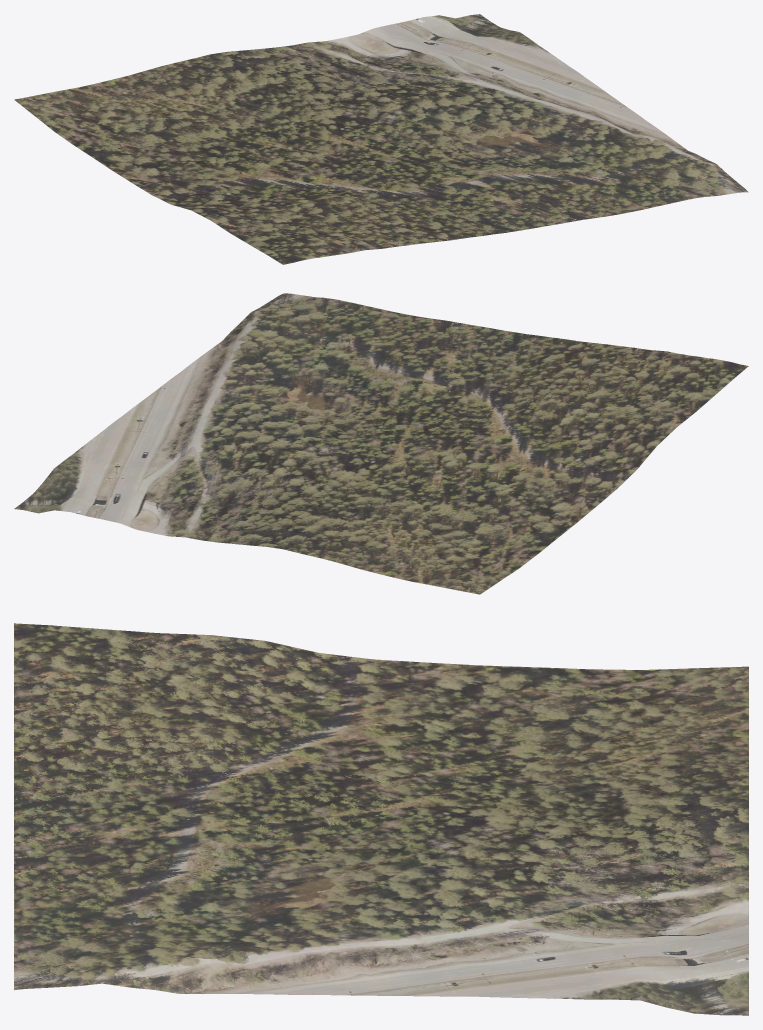
File: CM_Terrain_24491482_6816927.fbx
3 renders of one model, top to bottom at view 1: azimuth 30°, elevation 25°; view 2: azimuth 150°, elevation 25°; view 3: azimuth 270°, elevation 25°, orthographic. The views are drawn at different scales.
Parts seen in each view (by area): view 1: CM_Terrain_24491482_6816927_LOD0; view 2: CM_Terrain_24491482_6816927_LOD0; view 3: CM_Terrain_24491482_6816927_LOD0.
Boxes of the visible parts, bbox=[...] form: CM_Terrain_24491482_6816927_LOD0: bbox=[14, 14, 748, 264]; CM_Terrain_24491482_6816927_LOD0: bbox=[14, 293, 748, 594]; CM_Terrain_24491482_6816927_LOD0: bbox=[14, 623, 748, 1015].
Size of what is drawn, in the model's own units: 205 by 25.08 by 205.
